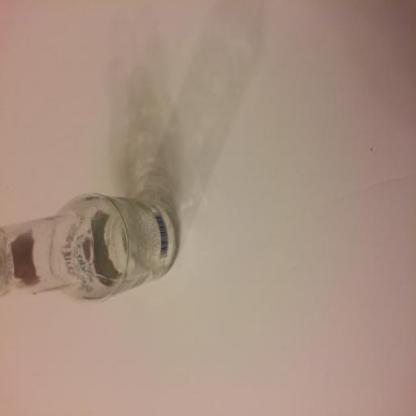trash: (0, 190, 180, 325)
